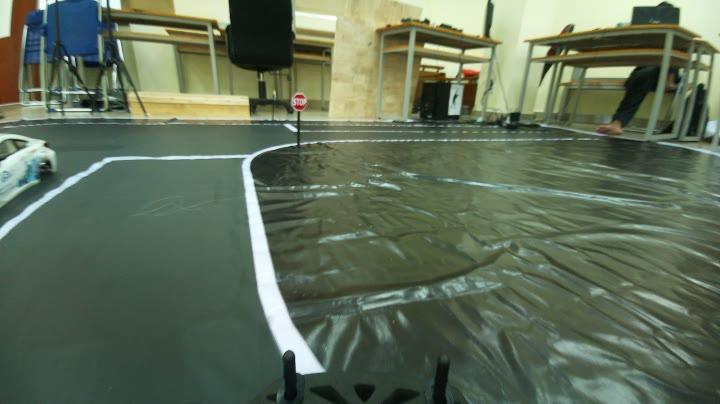stop: (284, 91, 320, 111)
